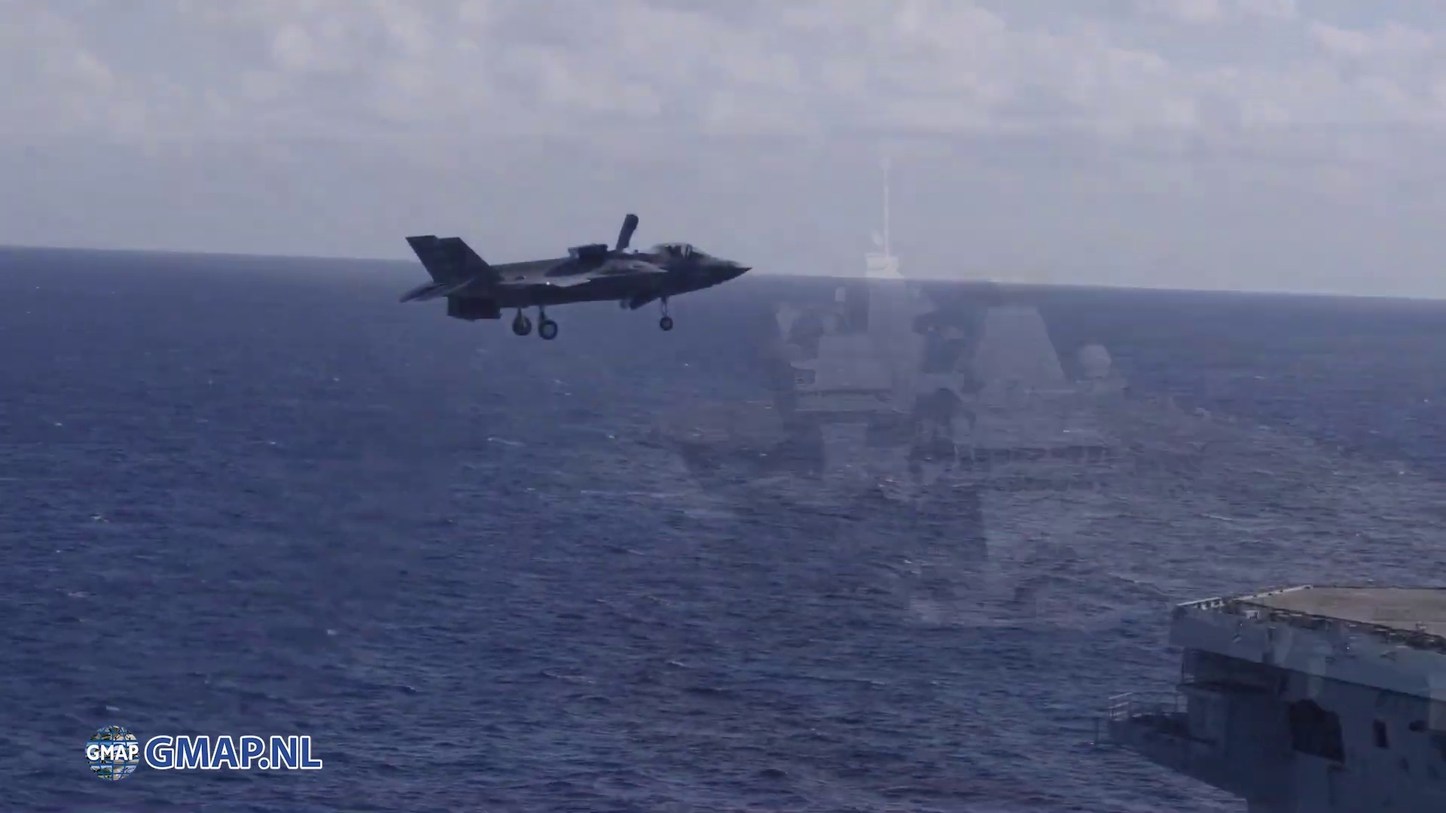F35: (397, 213, 753, 340)
